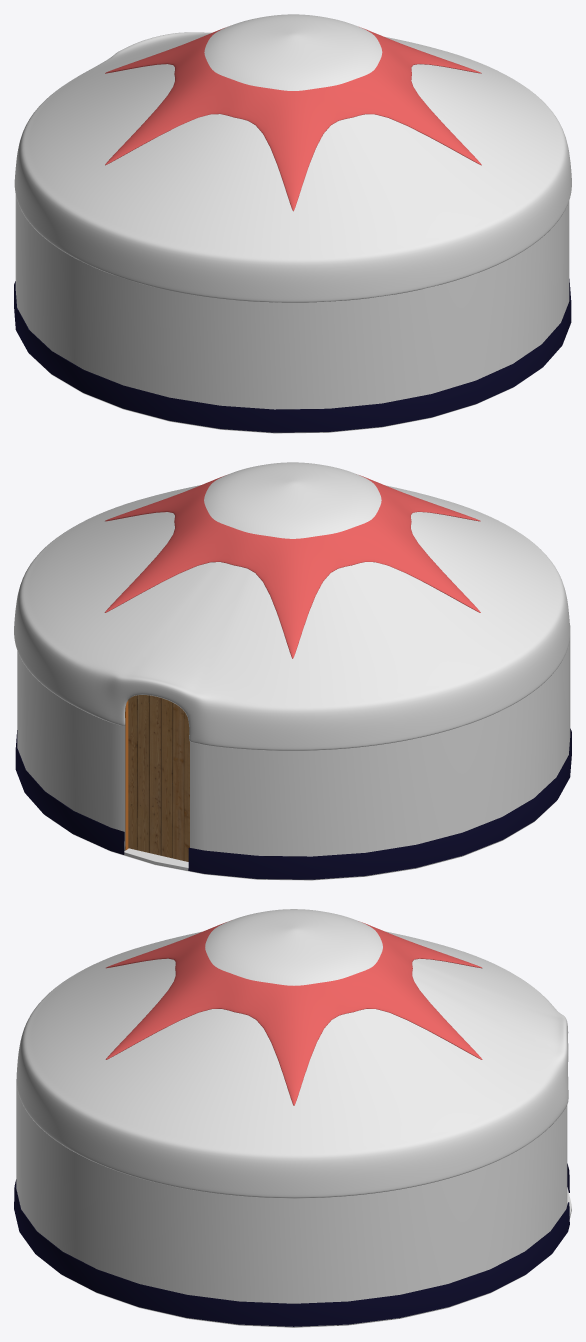
The model's file is Yurt.fbx.
3 renders of one model, top to bottom at view 1: azimuth 30°, elevation 25°; view 2: azimuth 150°, elevation 25°; view 3: azimuth 270°, elevation 25°, orthographic.
Visible parts, largest first — view 1: Circle, Cylinder.007, Circle.001, Cylinder.008, Cylinder.009; view 2: Circle, Cylinder.007, Circle.001, Cylinder.008, Cube.098, Cylinder.009, Cube.097; view 3: Circle, Cylinder.007, Circle.001, Cylinder.008, Cylinder.009.
Boxes of the visible parts, x1=… form: Circle: x1=14, y1=32, x2=571, y2=302; Cylinder.007: x1=15, y1=195, x2=569, y2=409; Circle.001: x1=105, y1=14, x2=481, y2=211; Cylinder.008: x1=14, y1=279, x2=571, y2=432; Cylinder.009: x1=29, y1=354, x2=541, y2=433; Circle: x1=14, y1=485, x2=570, y2=750; Cylinder.007: x1=17, y1=625, x2=570, y2=856; Circle.001: x1=104, y1=462, x2=480, y2=658; Cylinder.008: x1=15, y1=728, x2=571, y2=879; Cube.098: x1=128, y1=695, x2=189, y2=861; Cylinder.009: x1=45, y1=801, x2=556, y2=880; Cube.097: x1=125, y1=700, x2=128, y2=850; Circle: x1=16, y1=931, x2=568, y2=1198; Cylinder.007: x1=16, y1=1079, x2=567, y2=1303; Circle.001: x1=105, y1=909, x2=482, y2=1105; Cylinder.008: x1=14, y1=1163, x2=569, y2=1326; Cylinder.009: x1=39, y1=1187, x2=571, y2=1327.
Bounding box in the file's own units: 541 × 300 × 540.
